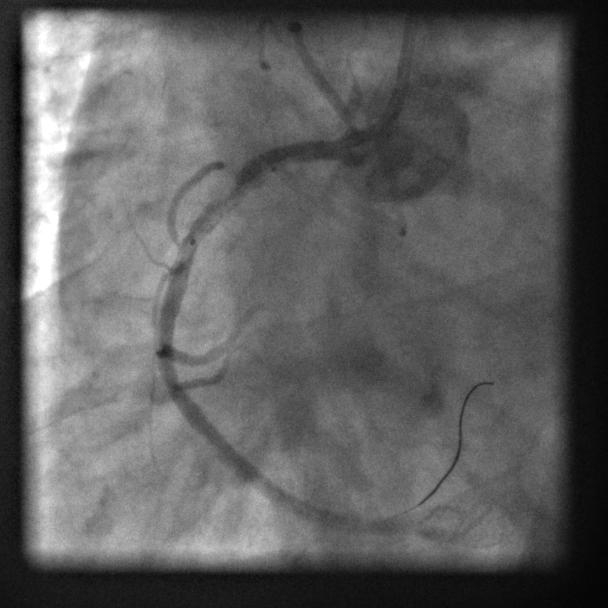Stenosis: (211, 170, 249, 223)
